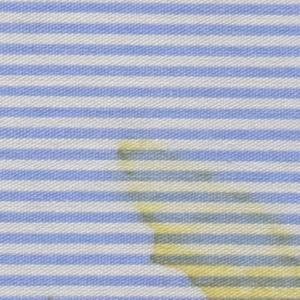Oil Stain: (113, 131, 300, 300)
